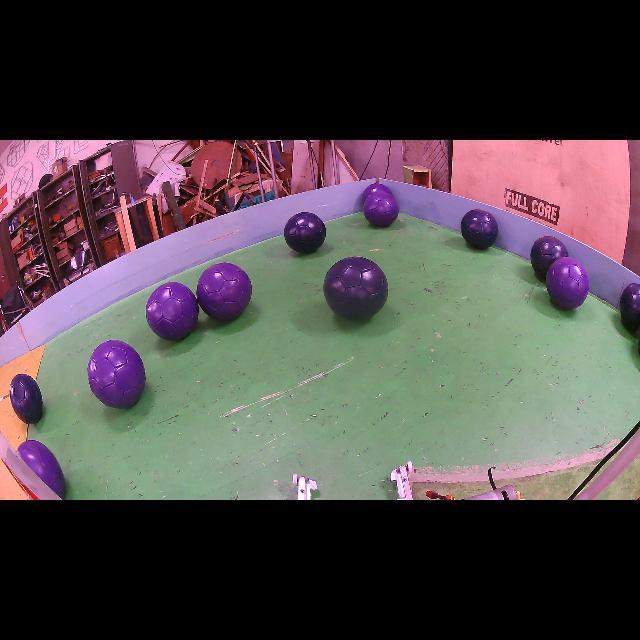B: (324, 256, 388, 320), (284, 212, 326, 254), (9, 374, 42, 424), (530, 236, 568, 279), (460, 210, 499, 249), (619, 284, 640, 331)
P: (88, 340, 145, 409), (196, 262, 251, 320), (146, 281, 199, 340), (18, 440, 65, 499), (546, 258, 589, 310), (364, 192, 399, 226), (362, 182, 392, 202)
